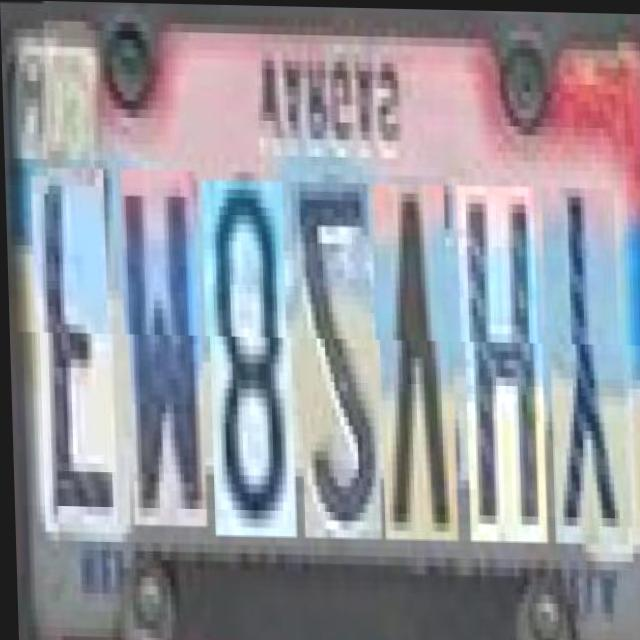2: (293, 181, 378, 537)
8: (204, 179, 294, 536)
f: (33, 168, 115, 524)
h: (459, 184, 544, 540)
m: (123, 170, 205, 526)
v: (375, 182, 455, 539)
y: (544, 185, 626, 542)
